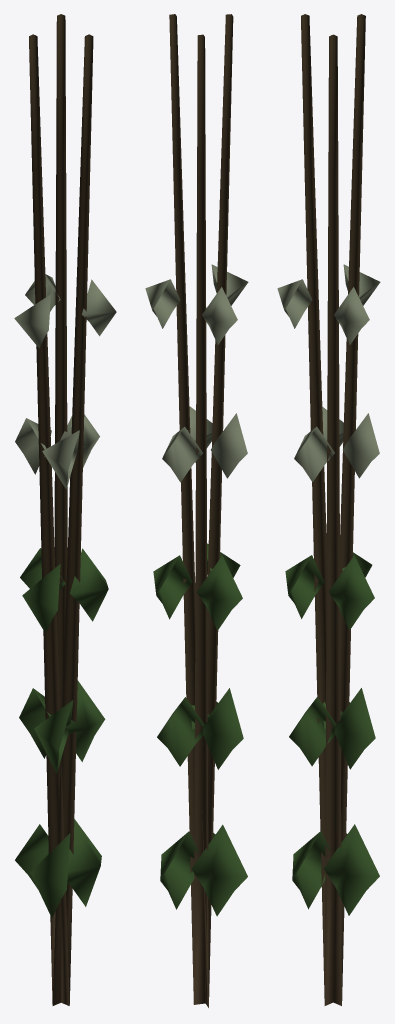
File: Herb_Mugwort.glb
3 renders of one model, left to right at view 1: azimuth 90°, elevation 25°; view 2: azimuth 150°, elevation 25°; view 3: azimuth 270°, elevation 25°, orthographic.
Parts seen in each view (by area): view 1: Herb_Mugwort; view 2: Herb_Mugwort; view 3: Herb_Mugwort.
Boxes of the visible parts, x1=… form: Herb_Mugwort: x1=14, y1=14, x2=116, y2=1005; Herb_Mugwort: x1=145, y1=14, x2=248, y2=1007; Herb_Mugwort: x1=277, y1=14, x2=380, y2=1005.
Size of the model in its own units: 0.1017 by 1 by 0.0952.
